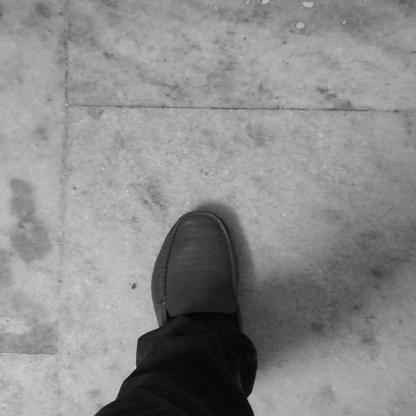ankle: (209, 321, 216, 325)
heel: (233, 358, 236, 363)
left_foot: (151, 213, 244, 373)
pinky: (171, 238, 177, 242)
toe: (224, 227, 227, 231)
